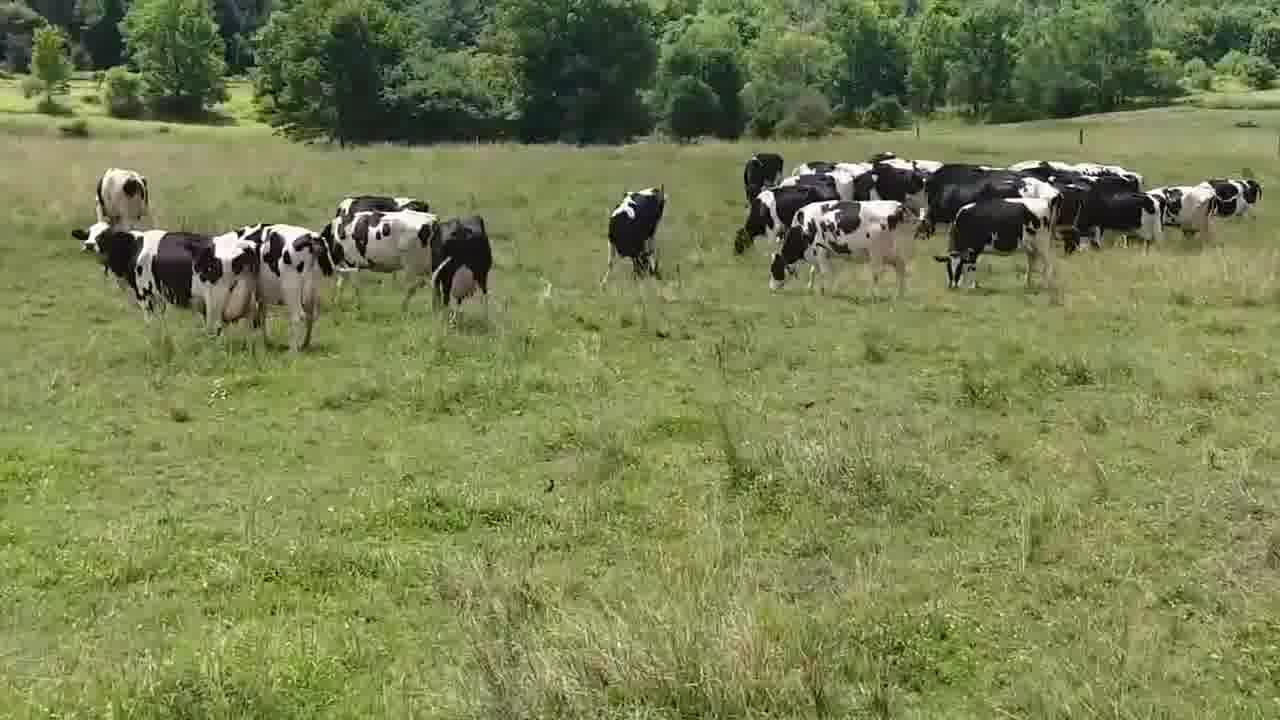cow: (72, 219, 266, 359), (225, 217, 342, 360), (934, 196, 1072, 301), (780, 221, 925, 314), (315, 209, 440, 292), (592, 182, 677, 286), (421, 217, 514, 309), (1068, 182, 1173, 257), (921, 168, 1056, 217), (731, 191, 825, 251), (1152, 175, 1212, 254), (93, 163, 153, 231), (1215, 172, 1270, 238), (739, 143, 785, 202), (336, 191, 435, 216), (786, 170, 850, 208)
